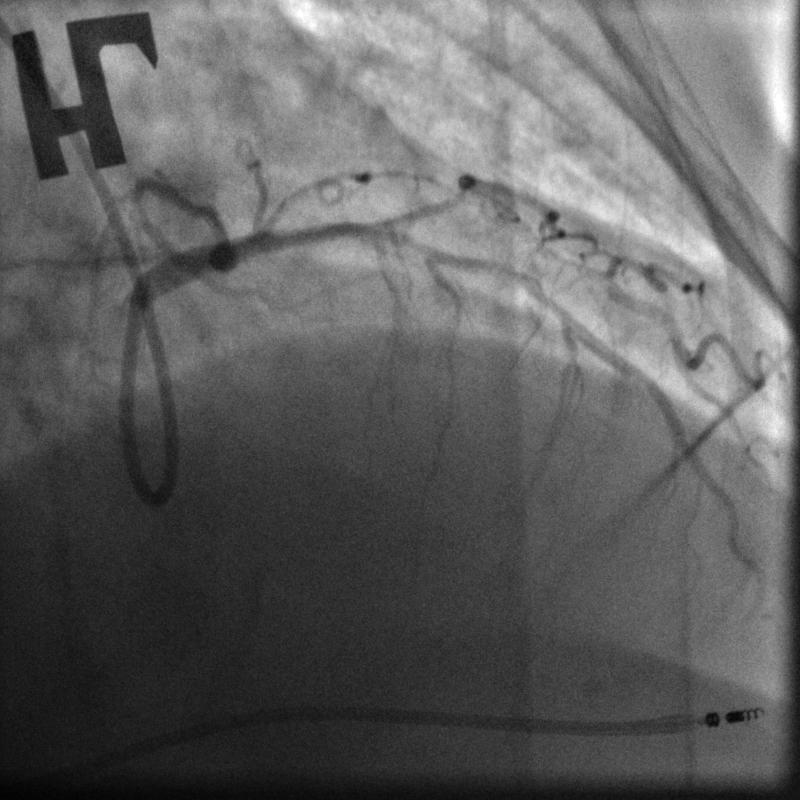Stenosis: (479, 255, 549, 300)
